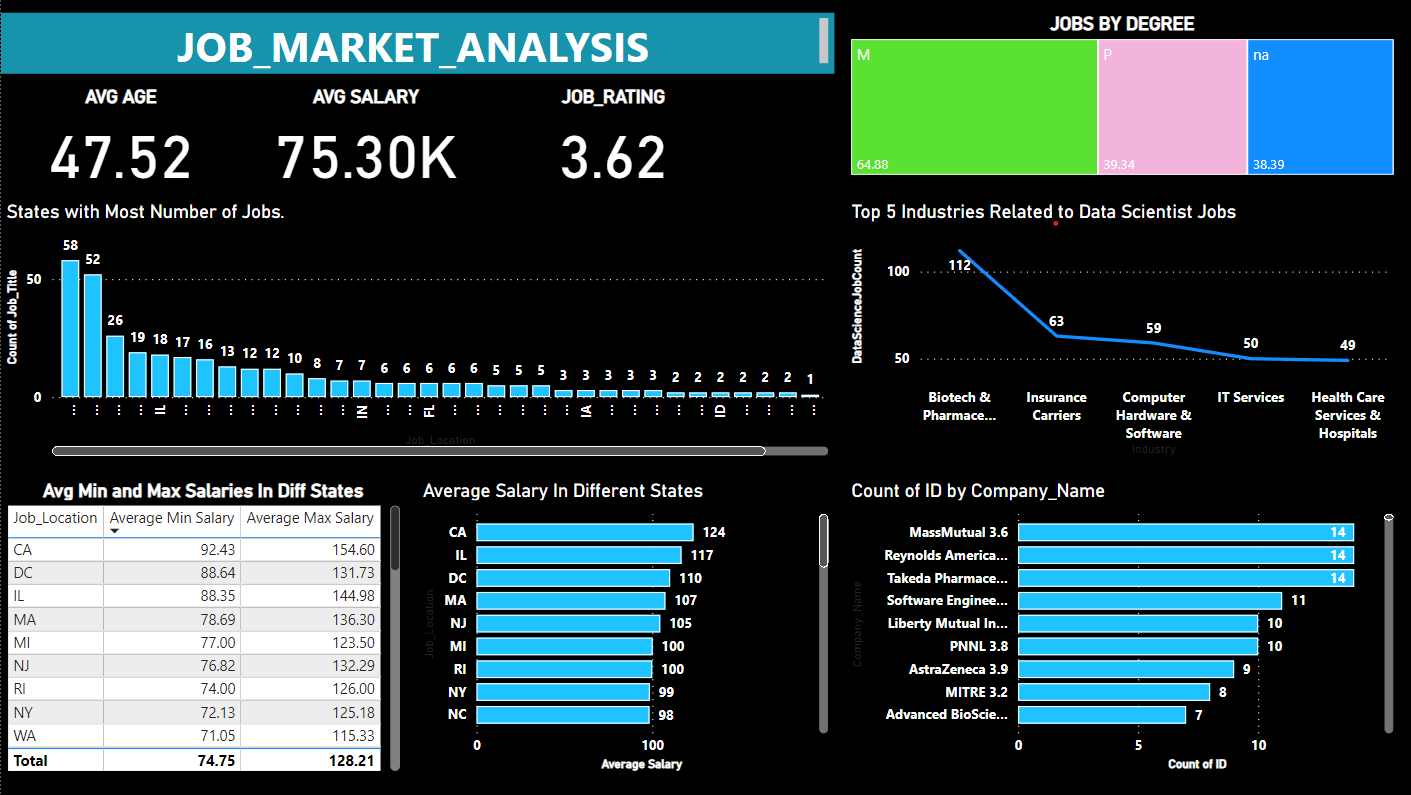

The dashboard page shown, as its layout file describes it:
{"tool":"powerbi","page":{"name":"1_JMA","canvas":[1280,720],"ordinal":0},"visuals":[{"type":"textbox","box":[0,12.2,753.3,55],"z":0},{"type":"lineClusteredColumnComboChart","title":"States with Most Number of Jobs.","fields":{"Category":["Job_Market_Analysis.Job_Location"],"Y":["Count(Job_Market_Analysis.Job_Title)"]},"box":[0,182.2,753.3,236],"z":1000},{"type":"clusteredBarChart","title":"Average Salary In Different States","fields":{"Category":["Job_Market_Analysis.Job_Location"],"Y":["Job_Market_Analysis.Average Salary"]},"box":[376.6,434.1,376.6,269],"z":2000},{"type":"tableEx","title":"Avg Min and Max Salaries In Diff States","fields":{"Values":["Job_Market_Analysis.Job_Location","Job_Market_Analysis.Average Min Salary","Job_Market_Analysis.Average Max Salary"]},"box":[0,434.1,365.6,269],"z":3000},{"type":"lineChart","title":"Top 5 Industries Related to Data Scientist Jobs","fields":{"Category":["Job_Market_Analysis.Industry"],"Y":["Job_Market_Analysis.DataScienceJobCount"]},"box":[764.3,182.2,500.1,236],"z":4000},{"type":"clusteredBarChart","fields":{"Category":["Job_Market_Analysis.Company_Name"],"Y":["CountNonNull(Job_Market_Analysis.ID)"]},"box":[764.3,434.1,500.1,269],"z":5000},{"type":"card","title":"AVG AGE","fields":{"Values":["Avg(Job_Market_Analysis.Age)"]},"box":[11.3,78,194.4,96.6],"z":6000},{"type":"card","title":"AVG SALARY","fields":{"Values":["Sum(Job_Market_Analysis.Avg_SalaryK)"]},"box":[232.3,78.3,194.4,96.6],"z":7000},{"type":"treemap","title":"JOBS BY DEGREE","fields":{"Values":["Avg(Job_Market_Analysis.Age)"],"Group":["Job_Market_Analysis.Degree"]},"box":[764.3,12.2,500.1,151.6],"z":8000},{"type":"card","title":"JOB_RATING","fields":{"Values":["Avg(Job_Market_Analysis.Rating)"]},"box":[456.4,78,194.4,96.6],"z":9000}]}

Visuals, with their boxes in screenshot pixels (x1, y1, x2, y2), scaled from the page's 1280x720 canvas onto the 1411x795 screenshot:
textbox: 0, 13, 830, 74
"States with Most Number of Jobs." lineClusteredColumnComboChart: 0, 201, 830, 462
"Average Salary In Different States" clusteredBarChart: 415, 479, 830, 776
"Avg Min and Max Salaries In Diff States" tableEx: 0, 479, 403, 776
"Top 5 Industries Related to Data Scientist Jobs" lineChart: 843, 201, 1394, 462
clusteredBarChart - Job_Market_Analysis.Company_Name x CountNonNull(Job_Market_Analysis.ID): 843, 479, 1394, 776
"AVG AGE" card: 12, 86, 227, 193
"AVG SALARY" card: 256, 86, 470, 193
"JOBS BY DEGREE" treemap: 843, 13, 1394, 181
"JOB_RATING" card: 503, 86, 717, 193
